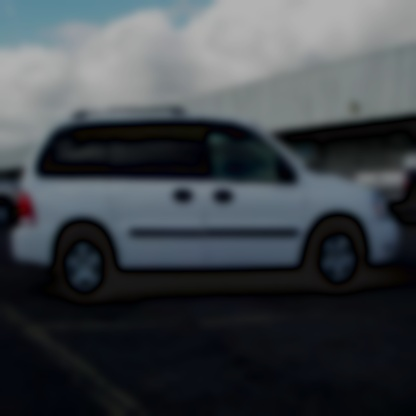Vehicle: (13, 107, 402, 308)
